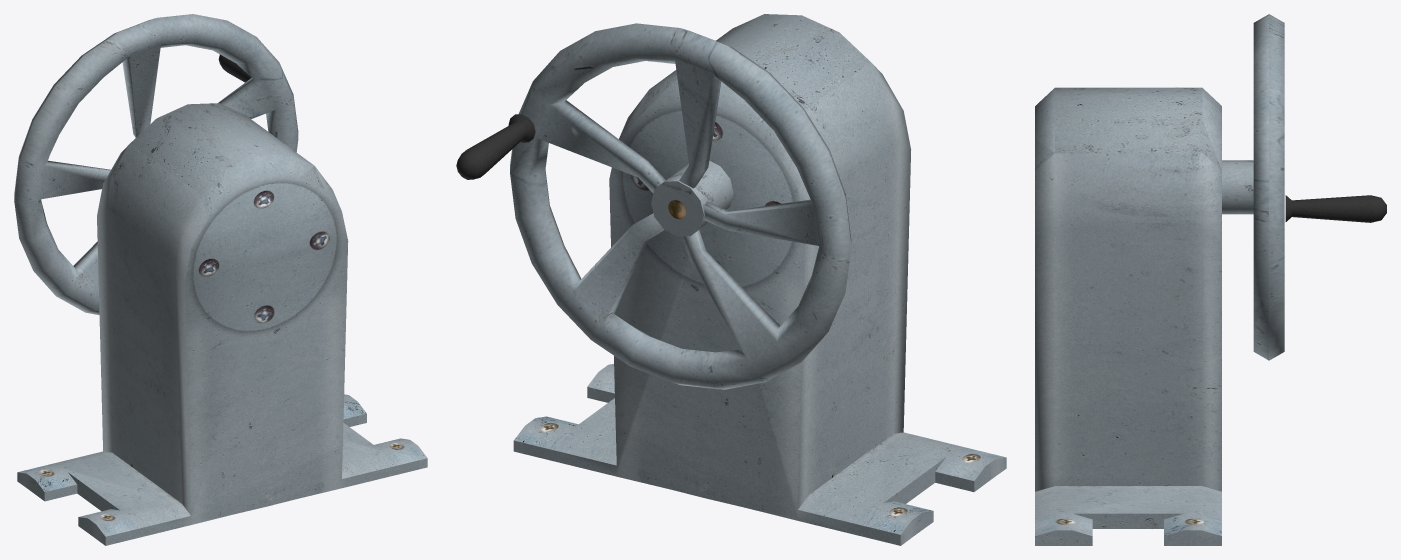
The model's file is Electro01.FBX.
3 renders of one model, left to right at view 1: azimuth 30°, elevation 25°; view 2: azimuth 150°, elevation 25°; view 3: azimuth 270°, elevation 25°, orthographic. The views are drawn at different scales.
Visible parts, largest first — view 1: Cylinder002; view 2: Cylinder002; view 3: Cylinder002.
Part boxes in pixels (bbox=[...]): Cylinder002: bbox=[14, 14, 427, 545]; Cylinder002: bbox=[456, 14, 1006, 545]; Cylinder002: bbox=[1035, 14, 1386, 545].
Size of the model in its own units: 39.13 by 47.37 by 34.87.
